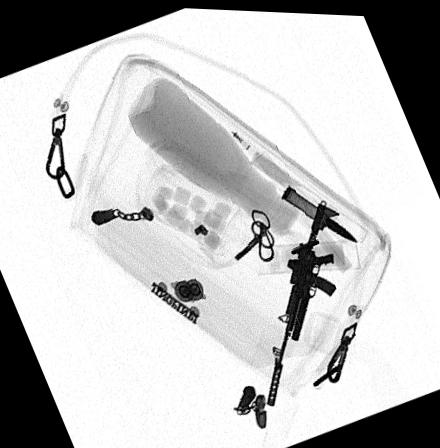Bullet: (281, 183, 359, 241)
Gun: (266, 199, 339, 404)
